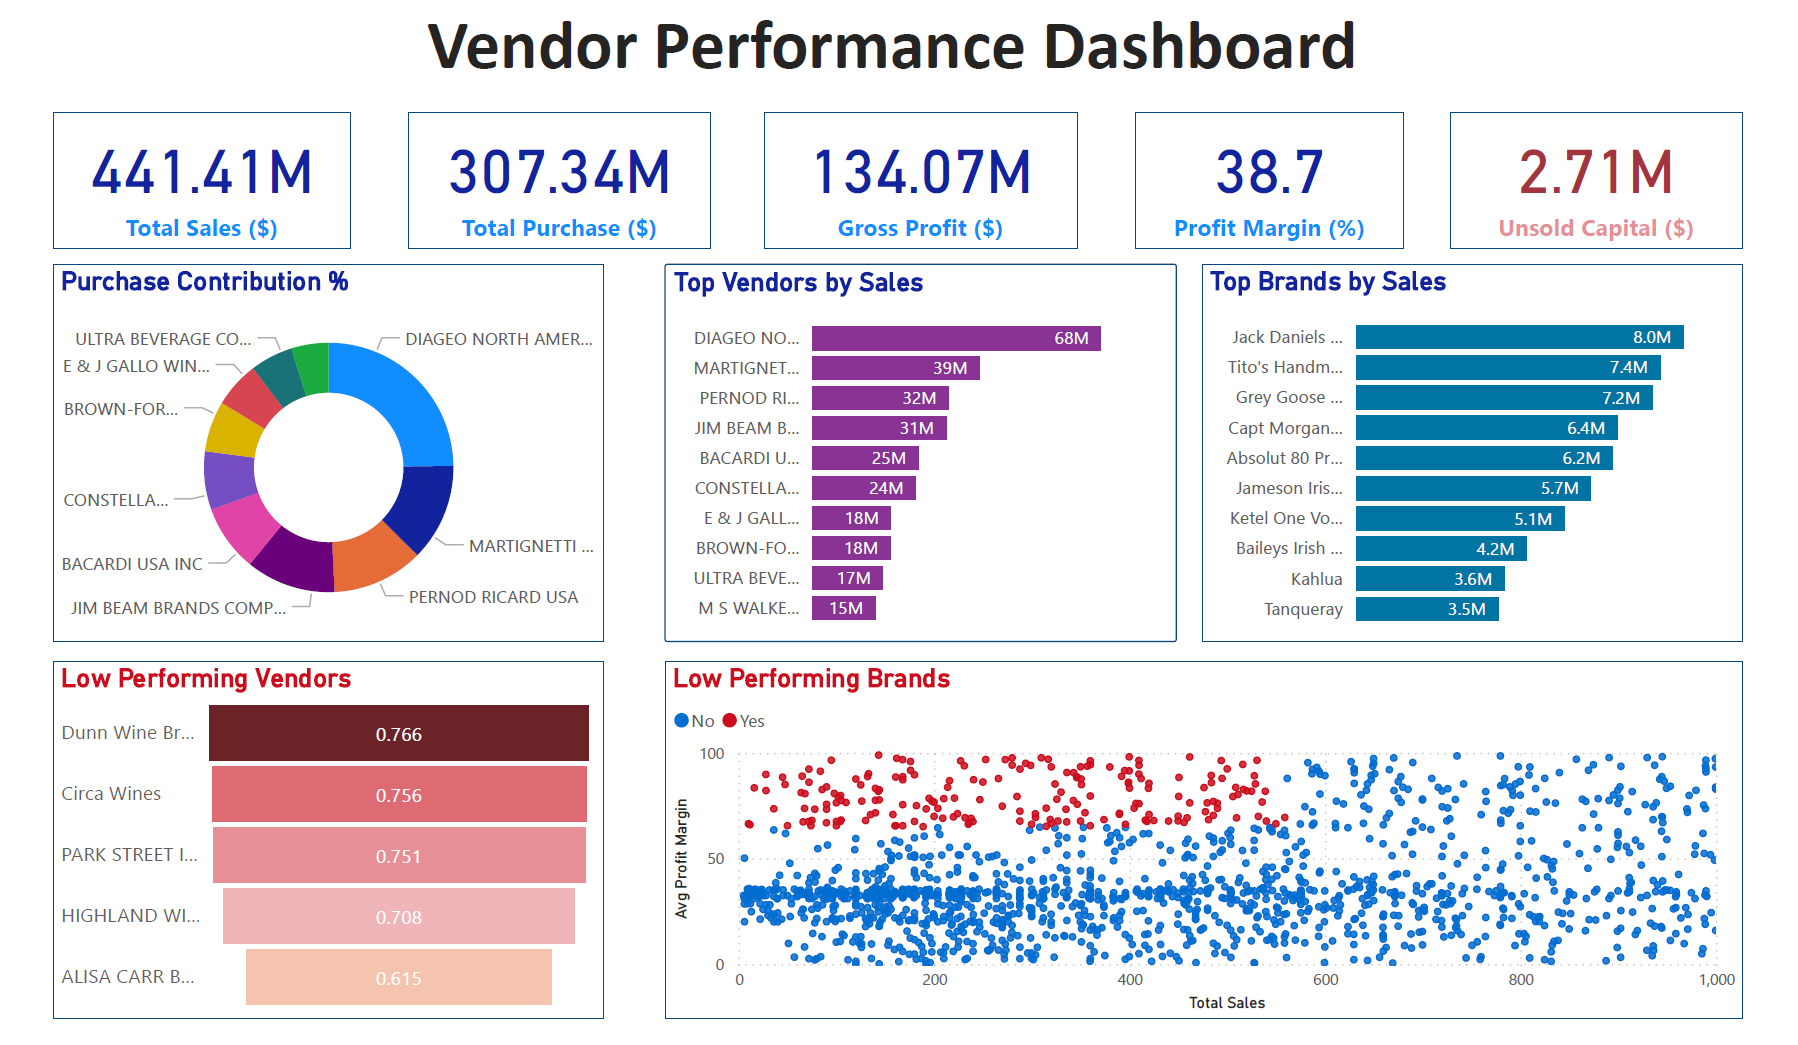

This screenshot's page, from the dashboard's own definition file:
{"tool":"powerbi","page":{"name":"Page 1","canvas":[1280,720],"ordinal":0},"visuals":[{"type":"card","fields":{"Values":["vendor_sales_summary.TotalSalesDollars"]},"box":[63.1,88.3,205.1,93.6],"z":0},{"type":"card","fields":{"Values":["vendor_sales_summary.TotalPurchaseDollars"]},"box":[307.1,88.3,208.2,93.6],"z":1000},{"type":"textbox","box":[106,7,1067,70],"z":2000},{"type":"card","fields":{"Values":["vendor_sales_summary.GrossProfit"]},"box":[551.1,88.3,215.6,93.6],"z":3000},{"type":"card","fields":{"Values":["vendor_sales_summary.ProfitMargin"]},"box":[805.5,88.3,185.1,93.6],"z":4000},{"type":"card","fields":{"Values":["vendor_sales_summary.UnsoldInventoryValue"]},"box":[1022.2,88.3,201.9,93.6],"z":5000},{"type":"donutChart","title":"Purchase Contribution % ","fields":{"Category":["PurchaseContribution.VendorName"],"Y":["PurchaseContribution.PurchaseContribution%"]},"box":[63.1,192.4,378.6,259.8],"z":6000},{"type":"barChart","title":"Top Vendors by Sales","fields":{"Category":["vendor_sales_summary.VendorName"],"Y":["vendor_sales_summary.TotalSalesDollars"]},"box":[482.7,192.4,352.3,259.8],"z":6001},{"type":"barChart","title":"Top Brands by Sales","fields":{"Category":["vendor_sales_summary.Description"],"Y":["vendor_sales_summary.TotalSalesDollars"]},"box":[851.8,192.4,372.3,259.8],"z":6002},{"type":"funnel","title":"Low Performing Vendors","fields":{"Category":["LowTurnoverVendor.VendorName"],"Y":["LowTurnoverVendor.AvgStockTurnover"]},"box":[63.1,464.8,378.6,246.1],"z":6003},{"type":"scatterChart","title":"Low Performing Brands","fields":{"Category":["BrandPerformance.Description"],"X":["BrandPerformance.TotalSales"],"Y":["BrandPerformance.AvgProfitMargin"],"Series":["BrandPerformance.TargetBrand"]},"box":[482.7,464.8,741.4,246.1],"z":6004}]}

Visuals, with their boxes on the page's 1280x720 design canvas (x1, y1, x2, y2). These are canvas units, not pixel positions in the 1798x1045 screenshot, which may show the page scaled, cropped or inside an application window:
card - vendor_sales_summary.TotalSalesDollars: 63/88/268/182
card - vendor_sales_summary.TotalPurchaseDollars: 307/88/515/182
textbox: 106/7/1173/77
card - vendor_sales_summary.GrossProfit: 551/88/767/182
card - vendor_sales_summary.ProfitMargin: 806/88/991/182
card - vendor_sales_summary.UnsoldInventoryValue: 1022/88/1224/182
"Purchase Contribution % " donutChart: 63/192/442/452
"Top Vendors by Sales" barChart: 483/192/835/452
"Top Brands by Sales" barChart: 852/192/1224/452
"Low Performing Vendors" funnel: 63/465/442/711
"Low Performing Brands" scatterChart: 483/465/1224/711
